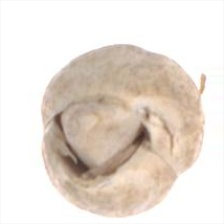L3: (48, 95, 163, 184)
L4: (40, 43, 205, 217)
